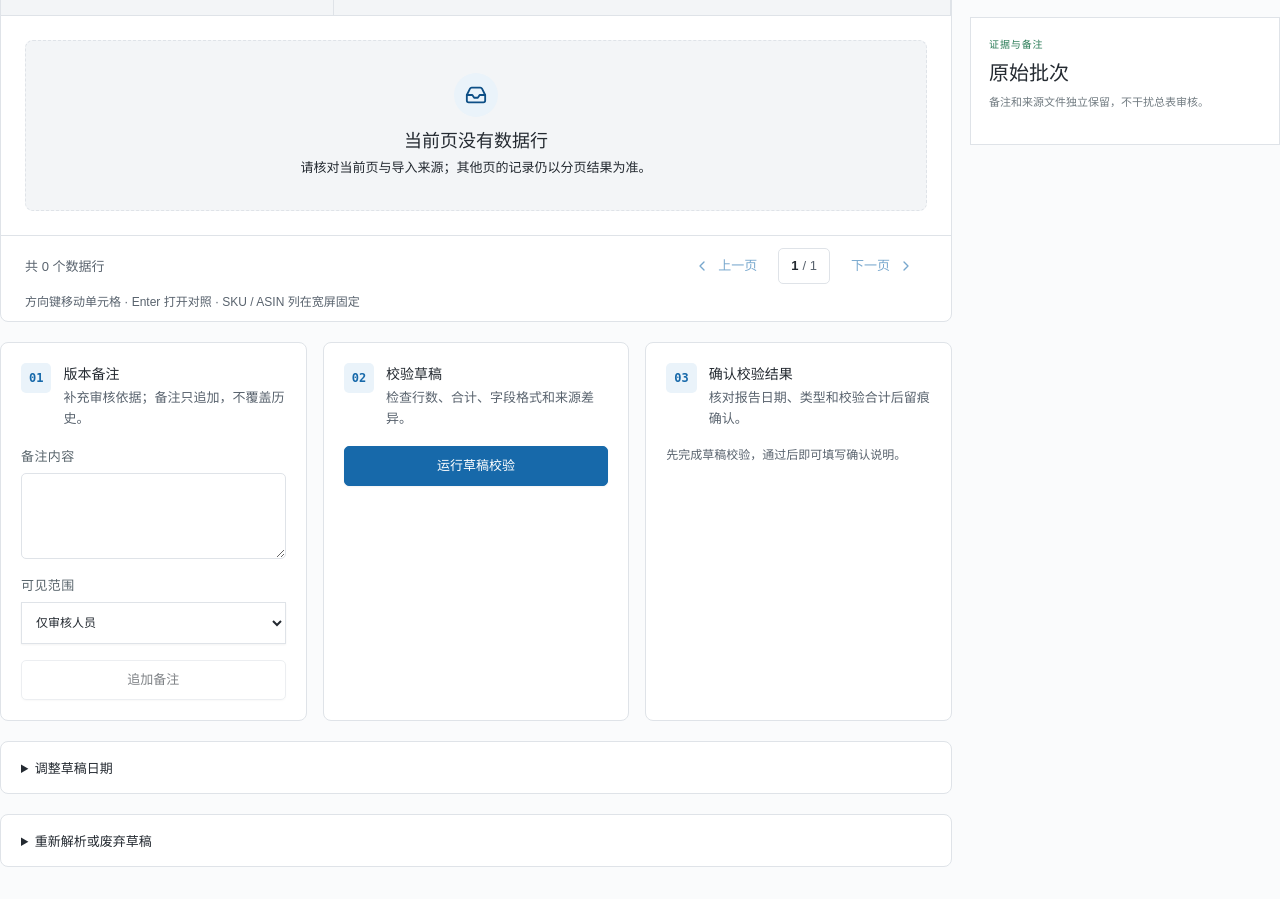
Test: ImportReviewFlow › keeps a failed validation away from the publication gate
The width and height of the screenshot is (1280, 899).
(page scrolled)
Click the button "运行草稿校验": (476, 466) top-left (344, 446), bottom-right (608, 486)
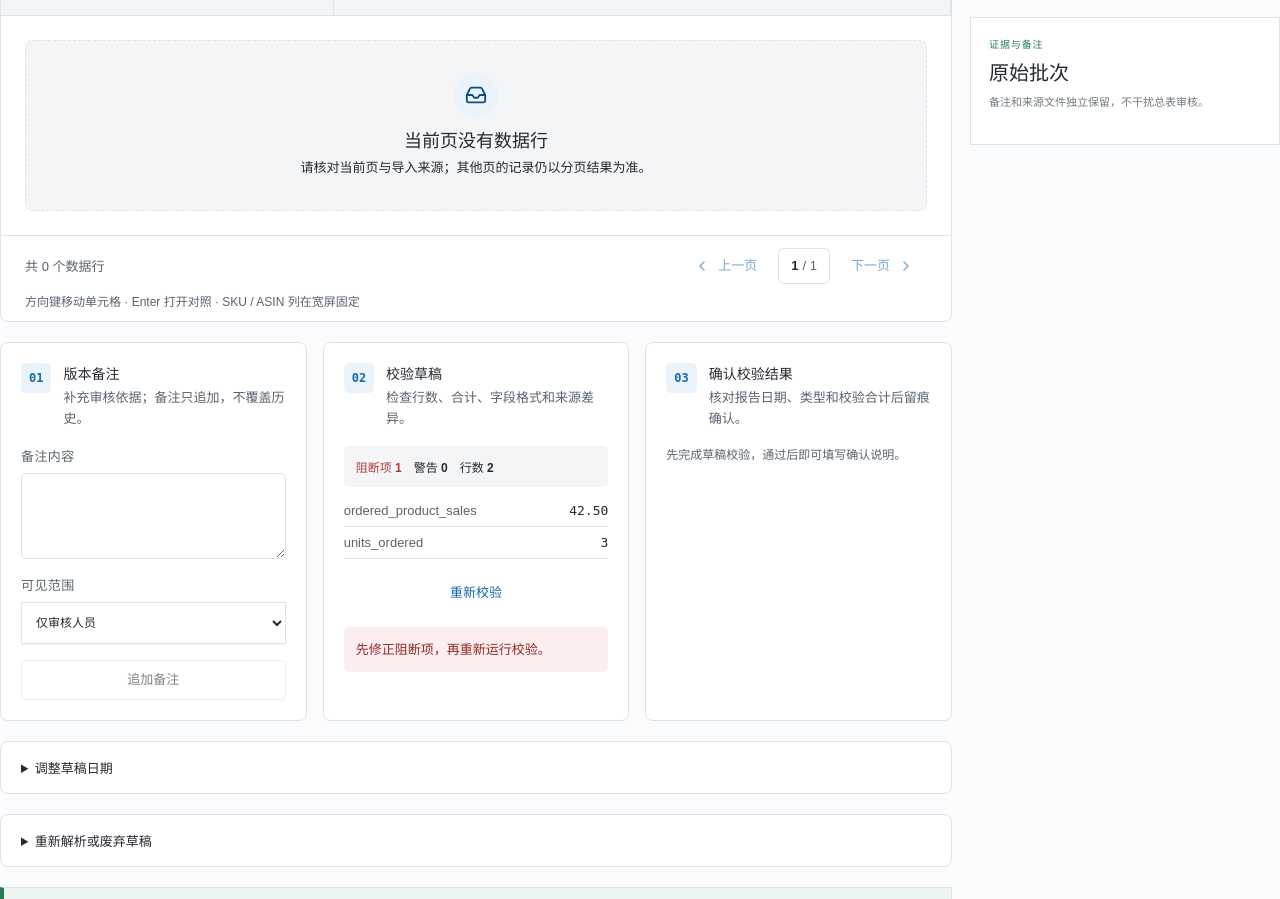
Expected: the text "阻断项 1" is shown, top-left (356, 458), bottom-right (402, 474)
Expected: the text "先修正阻断项，再重新运行校验。" is shown, top-left (344, 626), bottom-right (608, 672)
